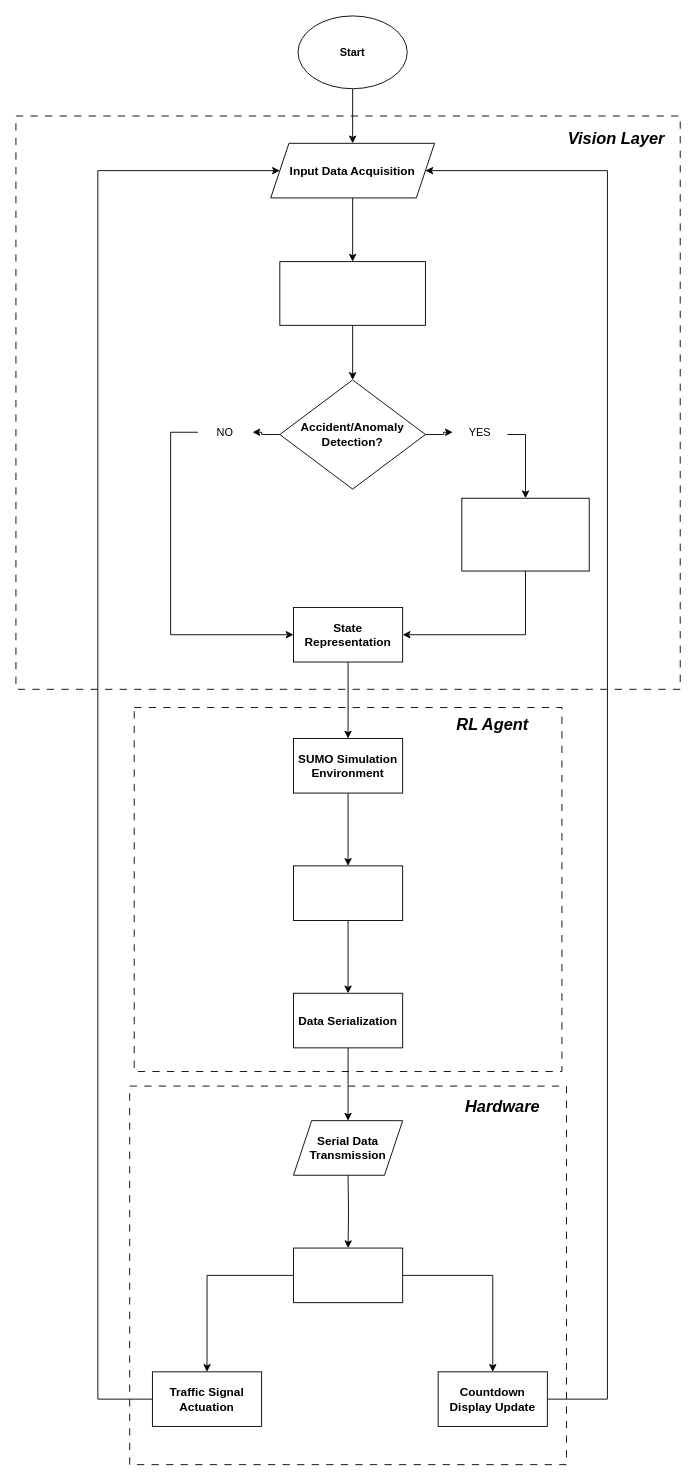
The diagram is 696 pixels wide and 1481 high, and some of its shapes have lost their labels. Here are the shapes that lost their labels. From the top down, the box of each, then its label:
(279, 261, 425, 325): Vehicle Detection & Tracking (YOLOv8)
(461, 497, 589, 571): Transmit Visual & Location Data via API
(293, 865, 403, 920): Optimal Action Generation (PPO)
(293, 1247, 403, 1303): Serial Data Decoding
